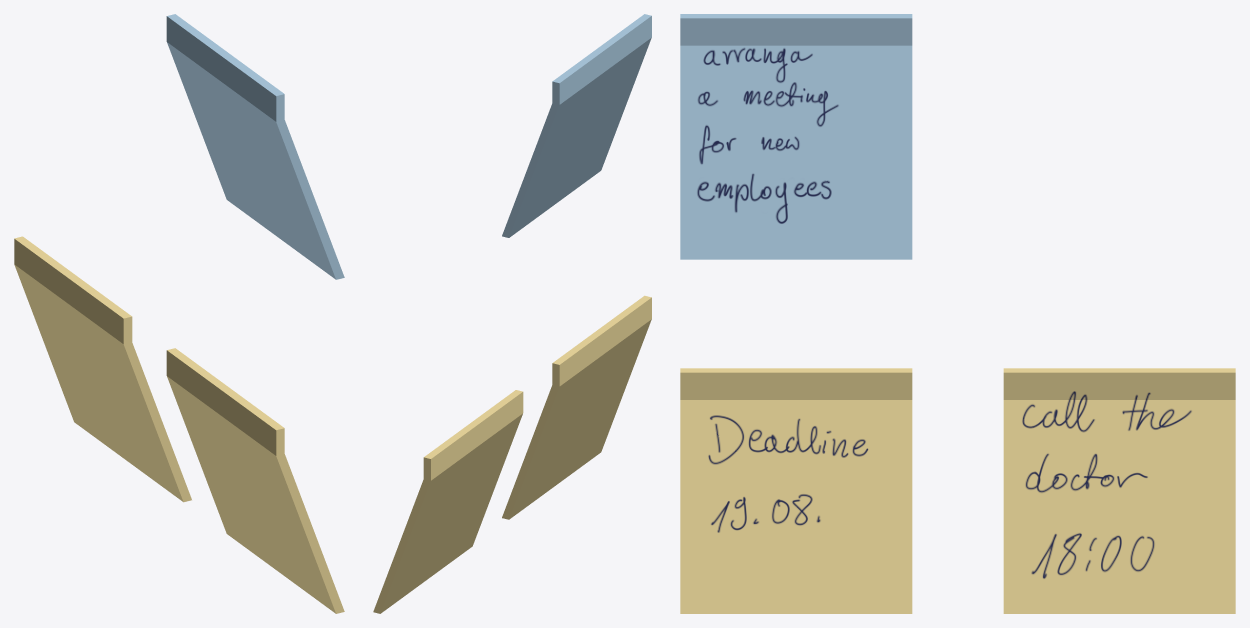
The model's file is karteczki.glb.
3 views of the same model, side by side, from view 1: azimuth 30°, elevation 25°; view 2: azimuth 150°, elevation 25°; view 3: azimuth 270°, elevation 25° (orthographic). The views are drawn at different scales.
Visible parts, largest first — view 1: Cube.025, Cube.023, Cube.026; view 2: Cube.023, Cube.025, Cube.026; view 3: Cube.023, Cube.025, Cube.026.
Part boxes in pixels (x1,y1,x2,y2): Cube.025: (166, 348, 344, 613); Cube.023: (14, 236, 191, 502); Cube.026: (166, 14, 344, 279); Cube.023: (373, 390, 523, 613); Cube.025: (502, 295, 651, 519); Cube.026: (502, 14, 651, 237); Cube.023: (1003, 368, 1235, 613); Cube.025: (680, 368, 912, 613); Cube.026: (680, 14, 912, 259).
Bounding box in the file's own units: 0.1433 × 1.06 × 0.9477.
Materials: 3 (3 with a texture image).
